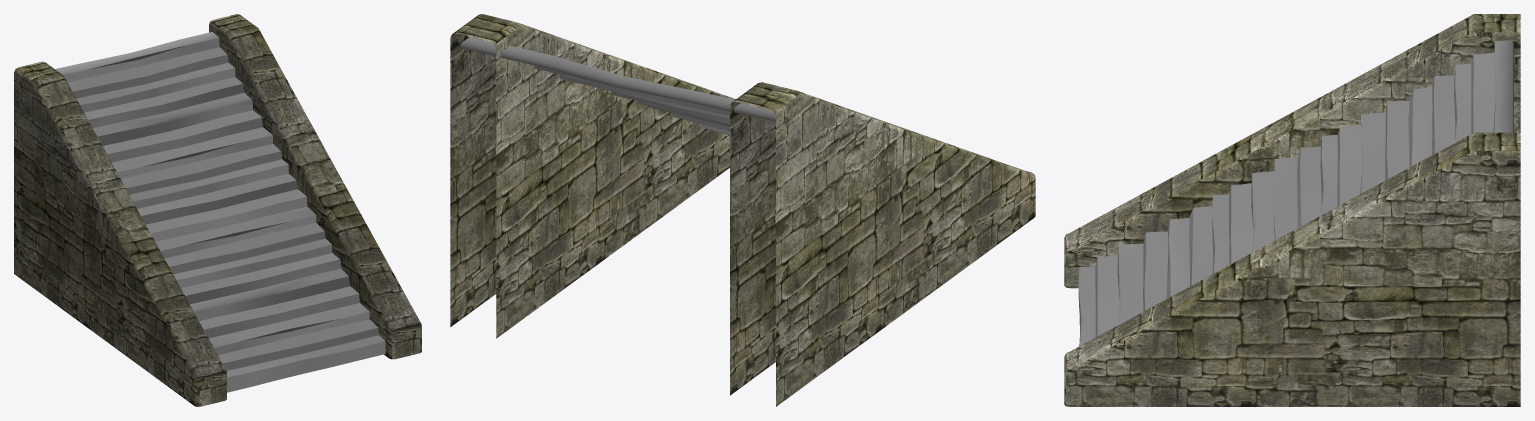
Rendered from castle_stair_1.fbx.
The picture shows the model from 3 angles, left to right: view 1: azimuth 30°, elevation 25°; view 2: azimuth 150°, elevation 25°; view 3: azimuth 270°, elevation 25°; orthographic projection. The views are drawn at different scales.
Parts seen in each view (by area): view 1: castle_stair_1; view 2: castle_stair_1; view 3: castle_stair_1.
Boxes of the visible parts, x1,y1,x2,y2 form: castle_stair_1: (14, 14, 421, 406); castle_stair_1: (450, 14, 1035, 406); castle_stair_1: (1064, 14, 1520, 406).
Bounding box in the file's own units: 369 × 320 × 515.
